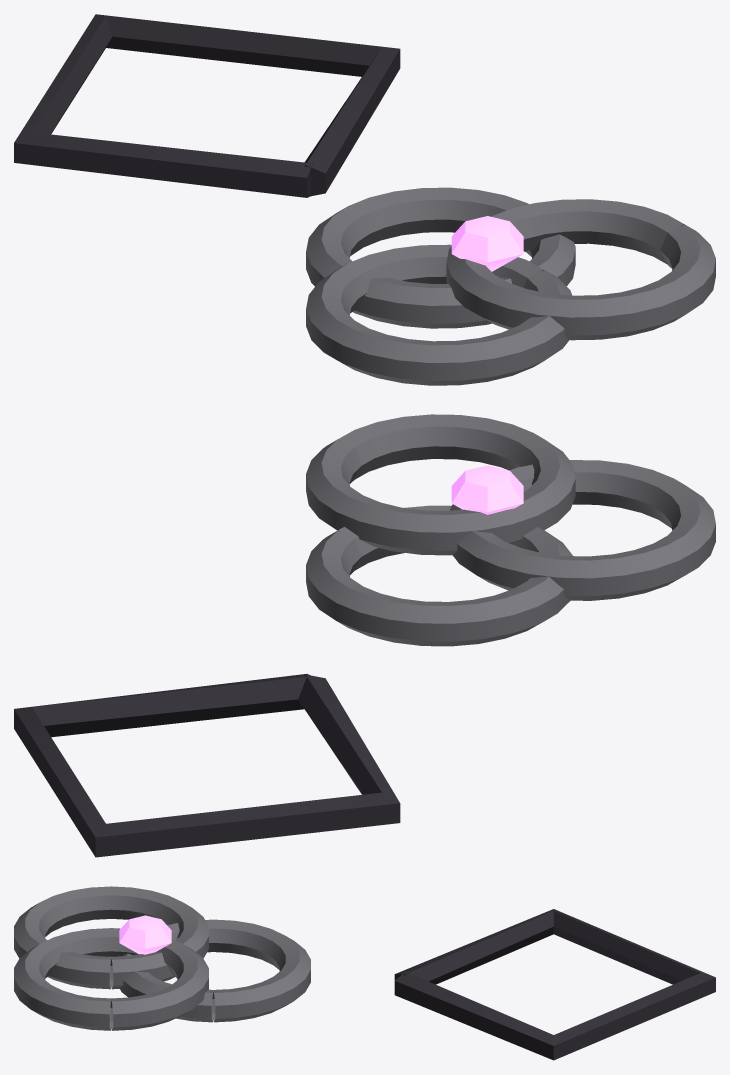
File: tc_silent_trail_charm.glb
3 views of the same model, one above another, from view 1: azimuth 30°, elevation 25°; view 2: azimuth 150°, elevation 25°; view 3: azimuth 270°, elevation 25° (orthographic). The views are drawn at different scales.
Parts seen in each view (by area): view 1: tc_silent_trail_charm; view 2: tc_silent_trail_charm; view 3: tc_silent_trail_charm.
Boxes of the visible parts, x1,y1,x2,y2 form: tc_silent_trail_charm: (14,14,715,385); tc_silent_trail_charm: (14,414,715,857); tc_silent_trail_charm: (14,886,715,1060).
Bounding box in the file's own units: 0.0429 × 0.0112 × 0.0928.
